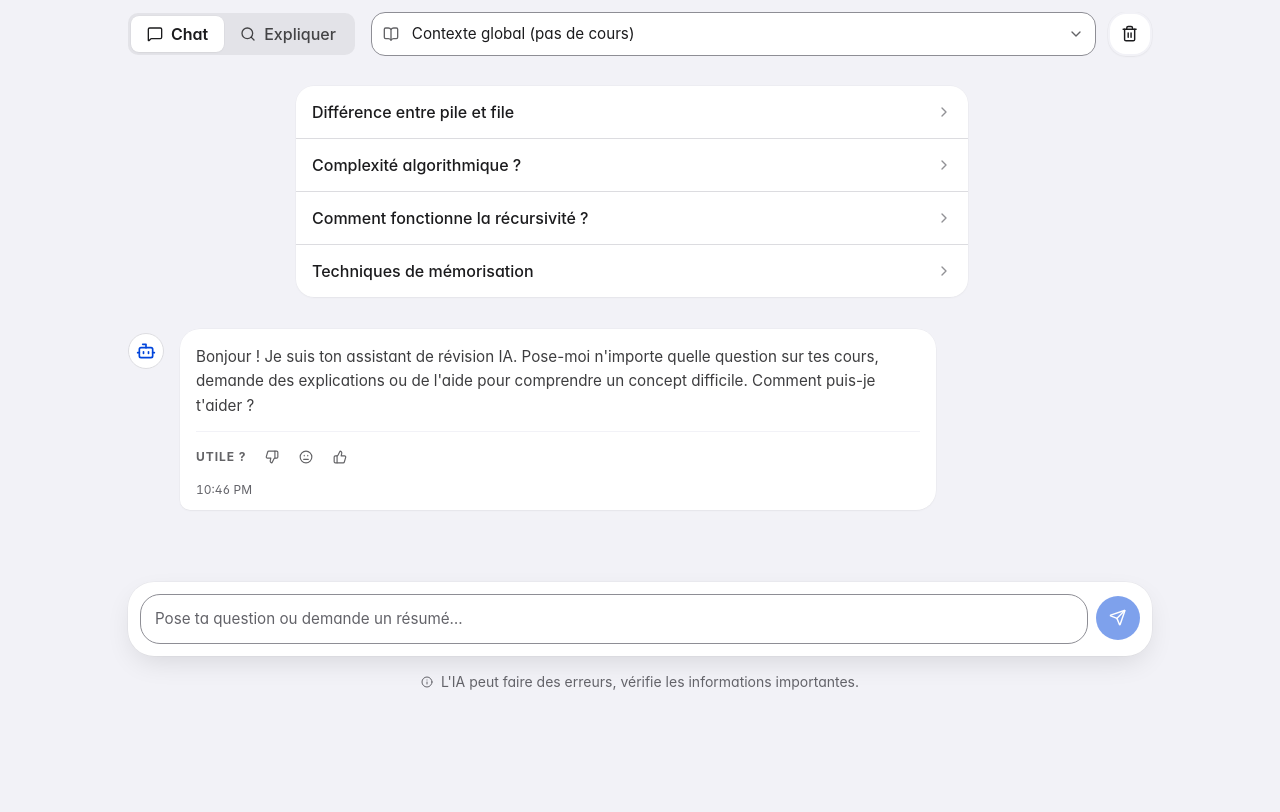
Test: Assistant IA › le mode « Expliquer » appelle l'explication de concept
(page scrolled)
Click the button "Expliquer" at (288, 34), box [224,16,352,52]
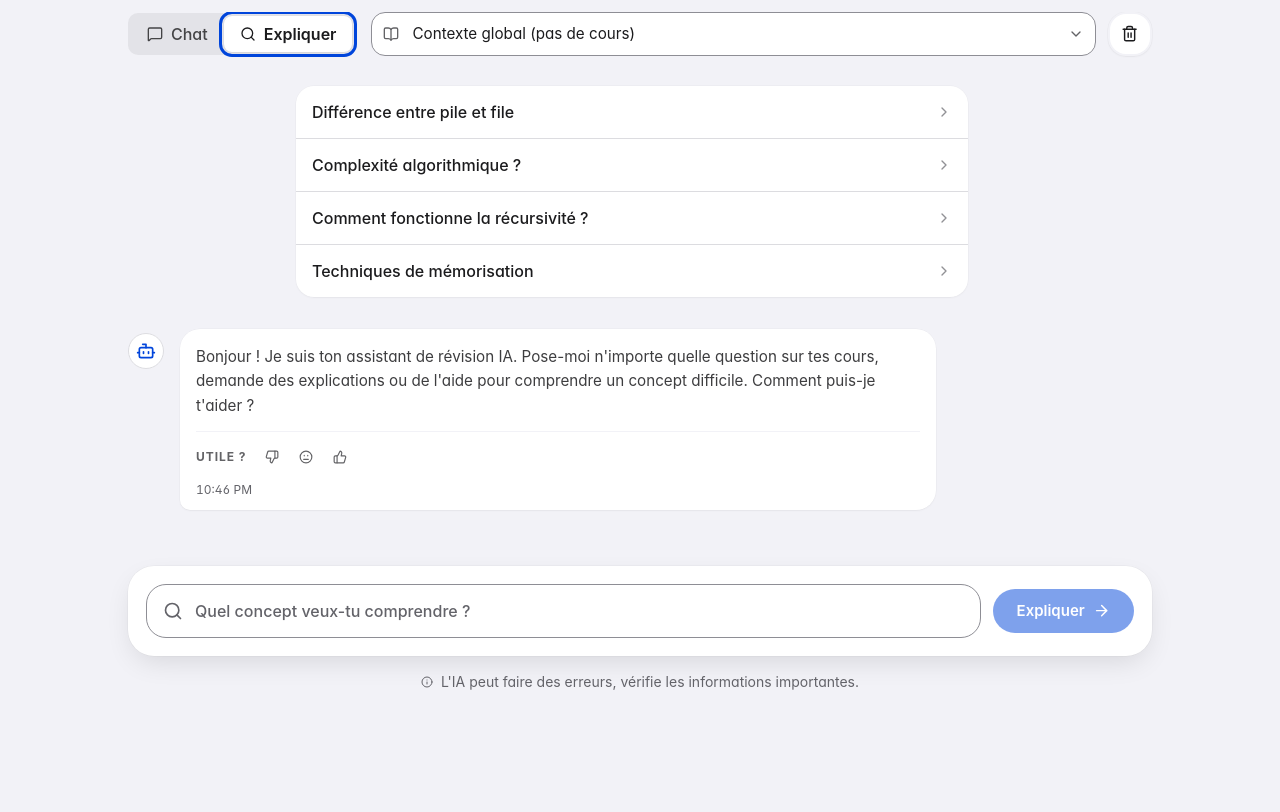
Type "Récursivité" into the field with placeholder "Quel concept veux-tu comprendre ?" at (579, 611), box [195,591,964,631]
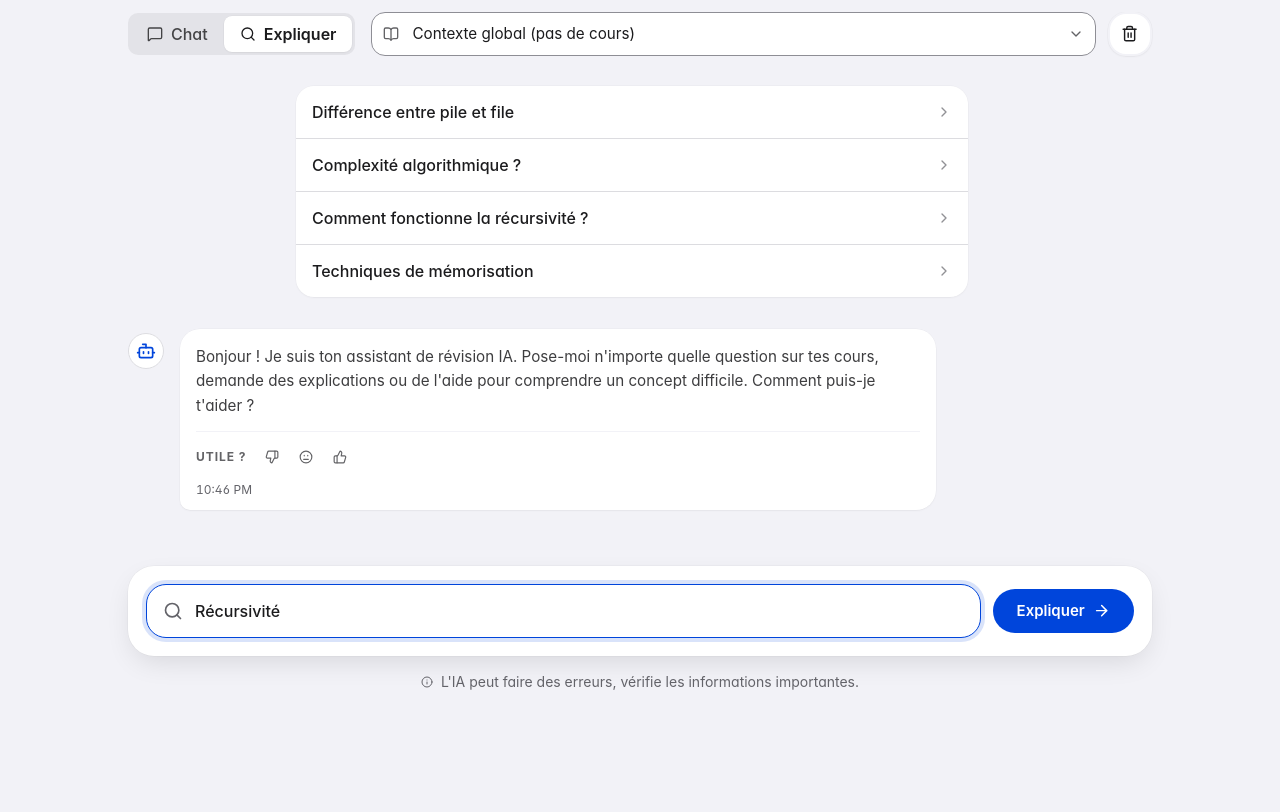
Click the 2nd button "Expliquer" at (1063, 611), box [992,589,1134,633]
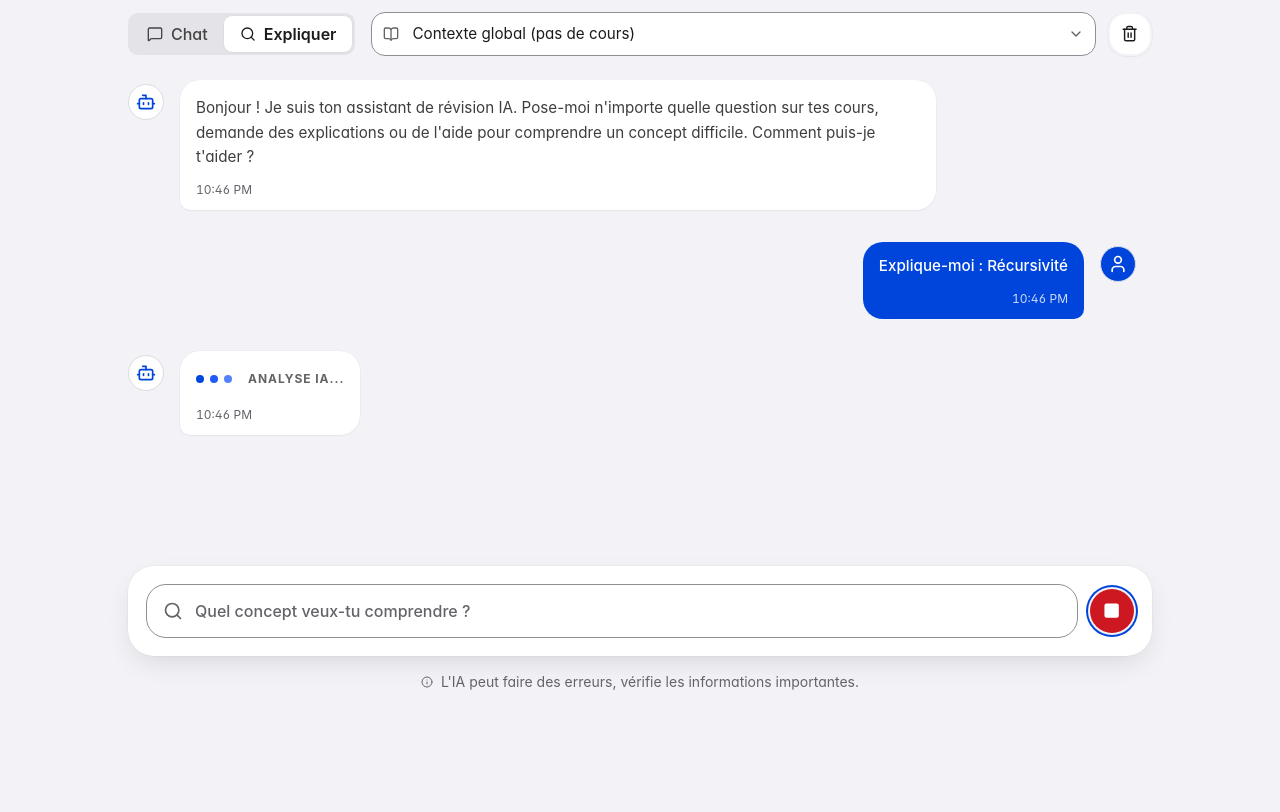
Check: the text "Explique-moi : Récursivité" is shown, box [879,254,1068,279]
